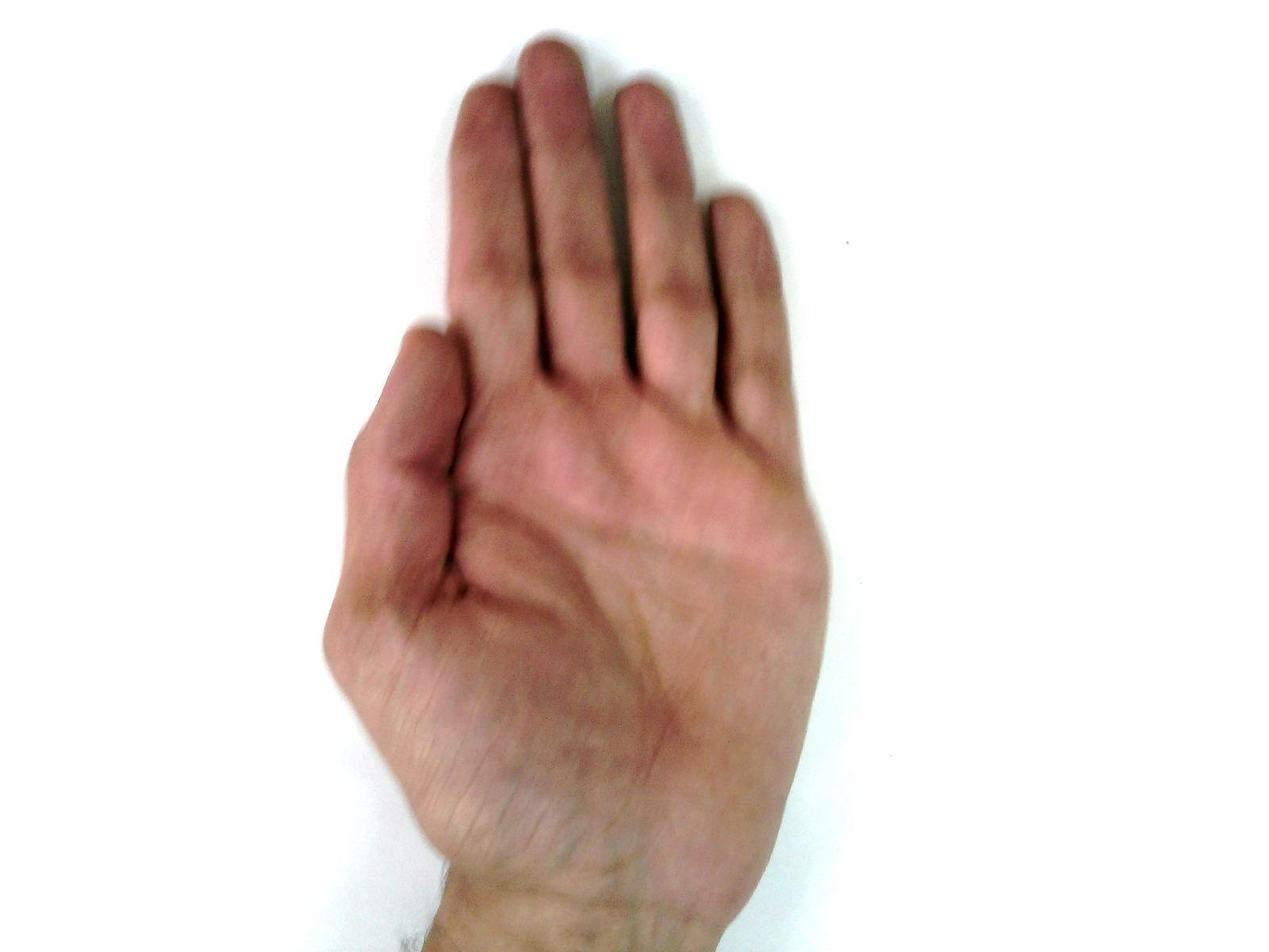open_palm: (320, 36, 836, 935)
